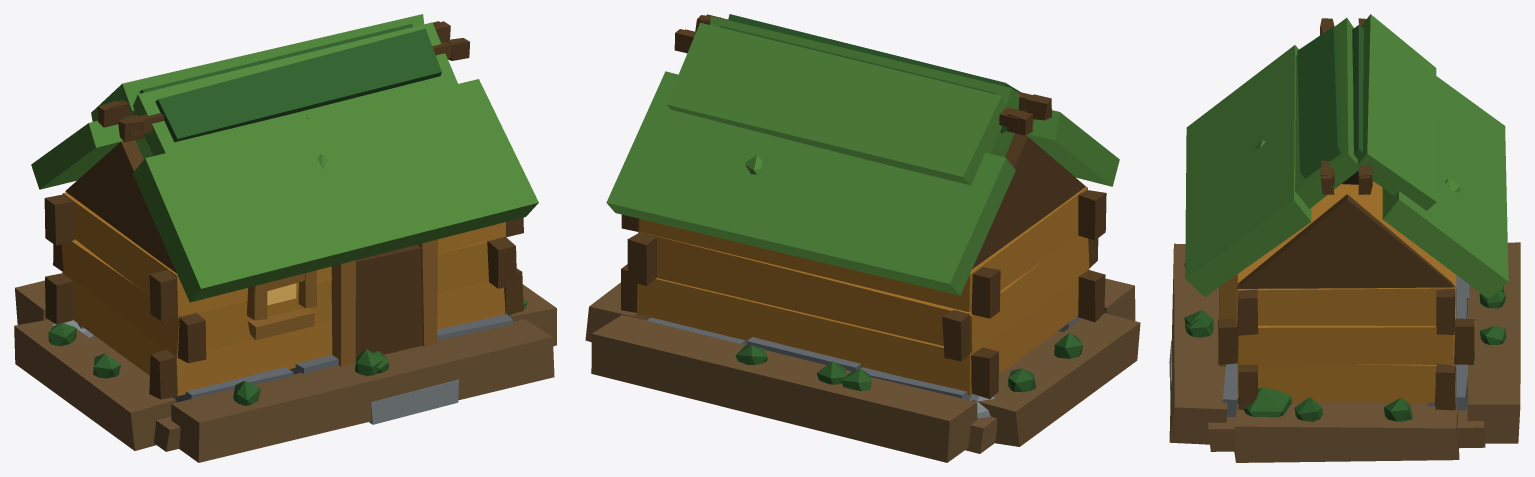
File: hutrect_c.glb
3 views of the same model, side by side, from view 1: azimuth 30°, elevation 25°; view 2: azimuth 150°, elevation 25°; view 3: azimuth 270°, elevation 25° (orthographic). The views are drawn at different scales.
Parts seen in each view (by area): view 1: hut_c_turf, hut_c_mound, hut_c_walls, hut_c_turf_dark, hut_c_logends, hut_c_door, hut_c_gable, hut_c_doorframe, hut_c_winframe, hut_c_stone, hut_c_poles, hut_c_mound_grass (+1 smaller); view 2: hut_c_turf, hut_c_walls, hut_c_mound, hut_c_logends, hut_c_gable, hut_c_mound_grass, hut_c_stone, hut_c_turf_dark, hut_c_poles; view 3: hut_c_turf, hut_c_mound, hut_c_walls, hut_c_gable, hut_c_turf_dark, hut_c_logends, hut_c_mound_grass, hut_c_stone, hut_c_poles, hut_c_bush, hut_c_doorframe.
Boxes of the visible parts, left/top/right/bottom form: hut_c_turf: left=31, top=14, right=538, bottom=302; hut_c_mound: left=14, top=280, right=556, bottom=462; hut_c_walls: left=61, top=192, right=505, bottom=395; hut_c_turf_dark: left=134, top=23, right=441, bottom=142; hut_c_logends: left=44, top=194, right=523, bottom=399; hut_c_door: left=355, top=244, right=422, bottom=361; hut_c_gable: left=65, top=140, right=176, bottom=273; hut_c_doorframe: left=331, top=239, right=437, bottom=366; hut_c_winframe: left=247, top=270, right=316, bottom=340; hut_c_stone: left=77, top=314, right=512, bottom=402; hut_c_poles: left=97, top=21, right=469, bottom=142; hut_c_mound_grass: left=48, top=323, right=388, bottom=405; hut_c_turf: left=606, top=16, right=1119, bottom=295; hut_c_walls: left=637, top=187, right=1089, bottom=395; hut_c_mound: left=585, top=278, right=1140, bottom=462; hut_c_logends: left=621, top=190, right=1106, bottom=399; hut_c_gable: left=972, top=133, right=1085, bottom=269; hut_c_mound_grass: left=735, top=333, right=1082, bottom=392; hut_c_stone: left=647, top=317, right=1081, bottom=400; hut_c_turf_dark: left=720, top=14, right=1019, bottom=94; hut_c_poles: left=674, top=14, right=1051, bottom=135; hut_c_turf: left=1185, top=14, right=1508, bottom=298; hut_c_mound: left=1169, top=242, right=1520, bottom=462; hut_c_walls: left=1236, top=181, right=1456, bottom=402; hut_c_gable: left=1236, top=194, right=1455, bottom=288; hut_c_turf_dark: left=1297, top=25, right=1378, bottom=184; hut_c_logends: left=1218, top=289, right=1474, bottom=410; hut_c_mound_grass: left=1184, top=263, right=1506, bottom=421; hut_c_stone: left=1222, top=275, right=1469, bottom=417; hut_c_poles: left=1320, top=18, right=1372, bottom=194; hut_c_bush: left=1237, top=387, right=1291, bottom=417; hut_c_doorframe: left=1219, top=274, right=1238, bottom=366.
Bounding box in the file's own units: 3.39 × 2.29 × 2.56.
